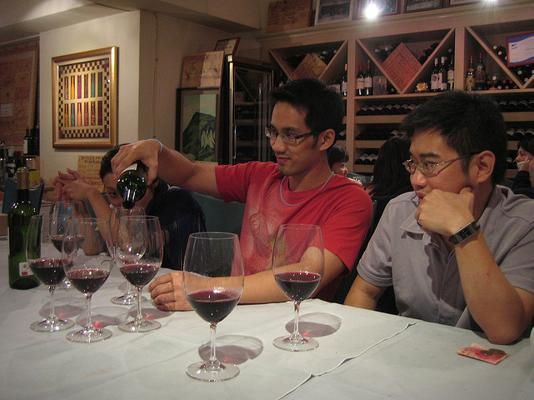person: (110, 77, 373, 311)
